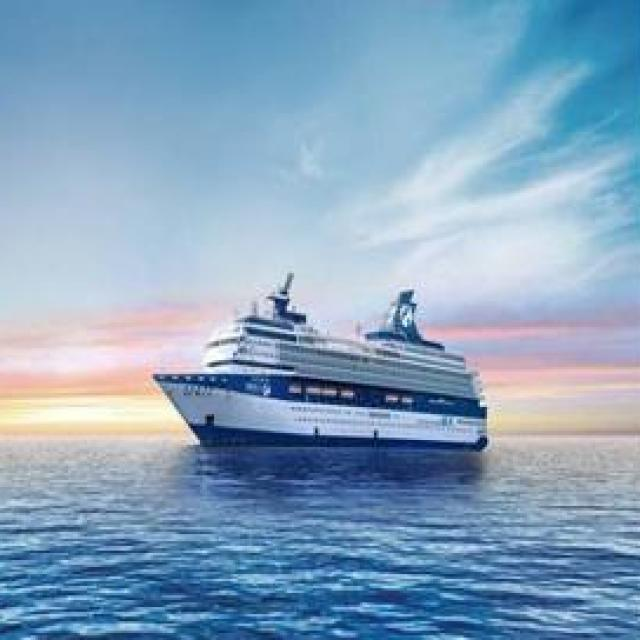passenger ship: (162, 280, 492, 450)
